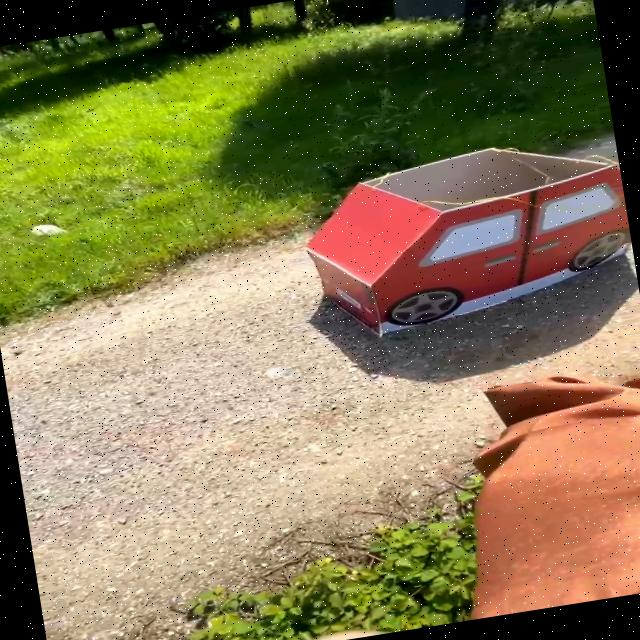red_car: (271, 116, 640, 378)
